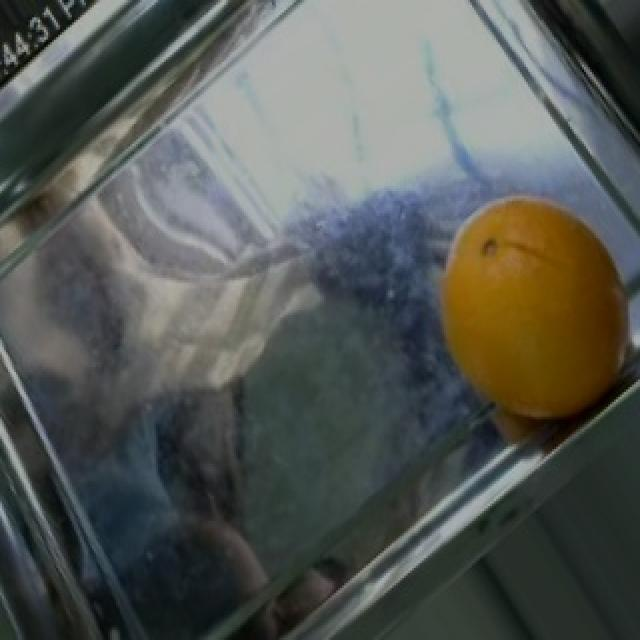Fruit: (420, 194, 640, 446)
